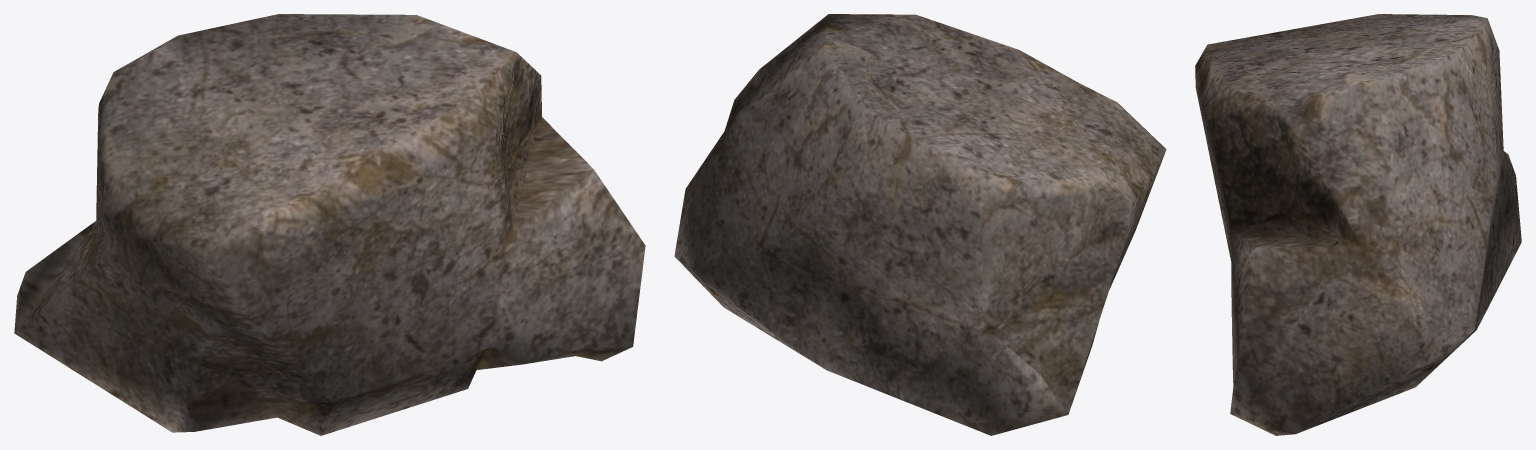
The model's file is rock_scan07.fbx.
The picture shows the model from 3 angles, left to right: view 1: azimuth 30°, elevation 25°; view 2: azimuth 150°, elevation 25°; view 3: azimuth 270°, elevation 25°; orthographic projection. The views are drawn at different scales.
Parts seen in each view (by area): view 1: Rock07_LOD3; view 2: Rock07_LOD3; view 3: Rock07_LOD3.
Part boxes in pixels (x1,y1,x2,y2): Rock07_LOD3: (14, 14, 645, 435); Rock07_LOD3: (674, 14, 1166, 435); Rock07_LOD3: (1195, 14, 1521, 435).
Bounding box in the file's own units: 218 × 141 × 135.
1 material, 1 textured.
